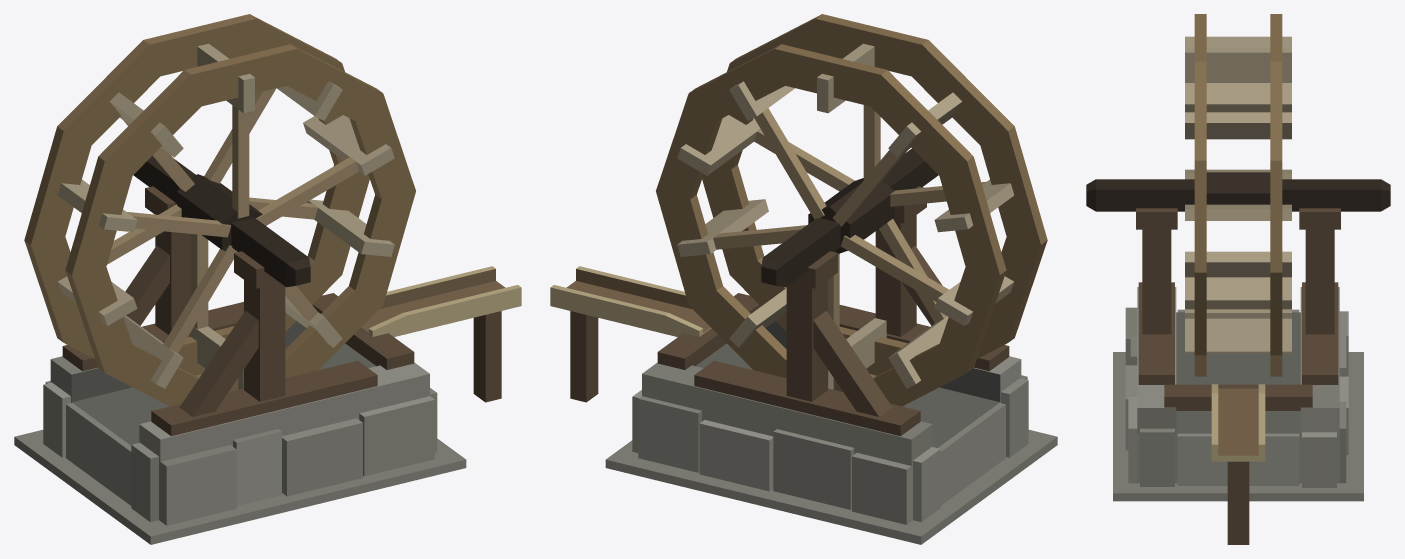
The model's file is stream-water-wheel-ea2d68.glb.
3 views of the same model, side by side, from view 1: azimuth 30°, elevation 25°; view 2: azimuth 150°, elevation 25°; view 3: azimuth 270°, elevation 25° (orthographic). The views are drawn at different scales.
Parts seen in each view (by area): view 1: wheel-mesh, mill-frame; view 2: wheel-mesh, mill-frame; view 3: mill-frame, wheel-mesh.
Boxes of the visible parts, box(x1,y1,x2,y2) form: wheel-mesh: box(24, 14, 415, 406); mill-frame: box(14, 186, 521, 544); wheel-mesh: box(656, 14, 1047, 406); mill-frame: box(550, 186, 1057, 544); mill-frame: box(1113, 208, 1363, 544); wheel-mesh: box(1086, 14, 1390, 376).
Size of the model in its own units: 4 by 3.47 by 2.5.
